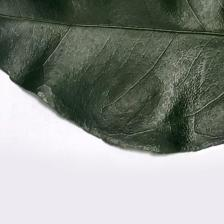healthy: (1, 0, 224, 143)
